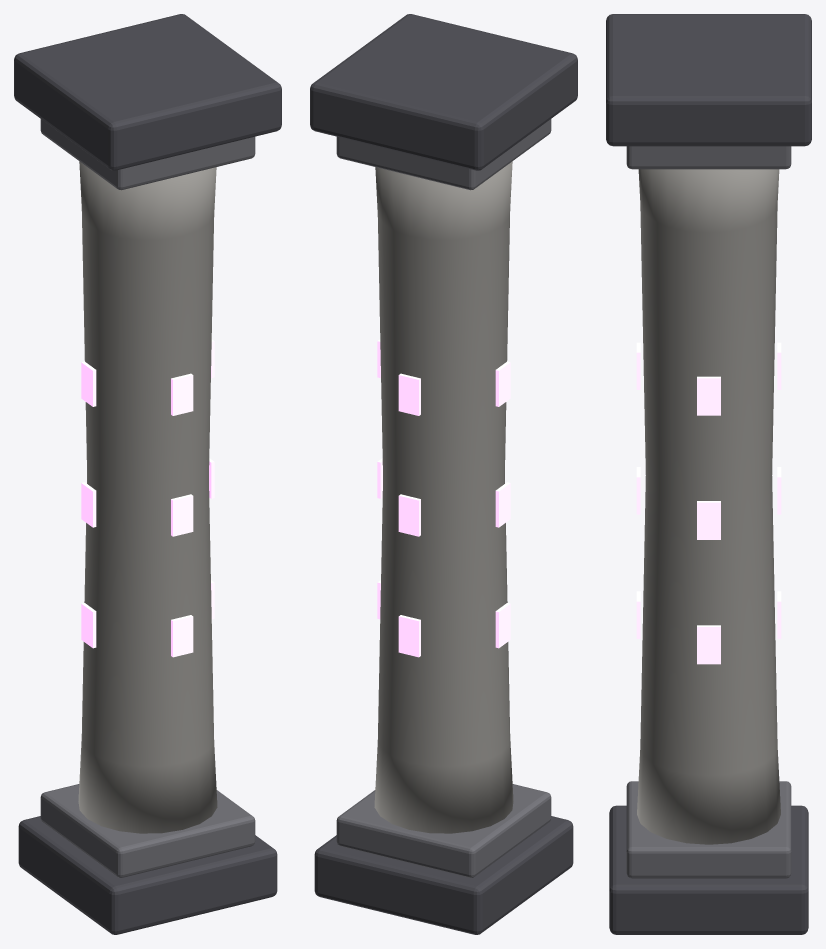
Rendered from column_rune.glb.
3 renders of one model, left to right at view 1: azimuth 30°, elevation 25°; view 2: azimuth 150°, elevation 25°; view 3: azimuth 270°, elevation 25°, orthographic. The views are drawn at different scales.
Visible parts, largest first — view 1: GD_column_rune__m3, GD_column_rune__m0, GD_column_rune__m1, GD_column_rune__m2; view 2: GD_column_rune__m3, GD_column_rune__m0, GD_column_rune__m1, GD_column_rune__m2; view 3: GD_column_rune__m3, GD_column_rune__m0, GD_column_rune__m1, GD_column_rune__m2.
Part boxes in pixels (x1,y1,x2,y2): GD_column_rune__m3: (78,161,217,833); GD_column_rune__m0: (14,14,281,934); GD_column_rune__m1: (40,119,255,877); GD_column_rune__m2: (81,339,214,657); GD_column_rune__m3: (374,161,513,833); GD_column_rune__m0: (310,14,577,934); GD_column_rune__m1: (336,119,551,877); GD_column_rune__m2: (377,339,510,657); GD_column_rune__m3: (637,169,780,844); GD_column_rune__m0: (606,14,811,934); GD_column_rune__m1: (626,146,791,878); GD_column_rune__m2: (636,342,781,664).
Size of the model in its own units: 0.6 by 2.7 by 0.6.
